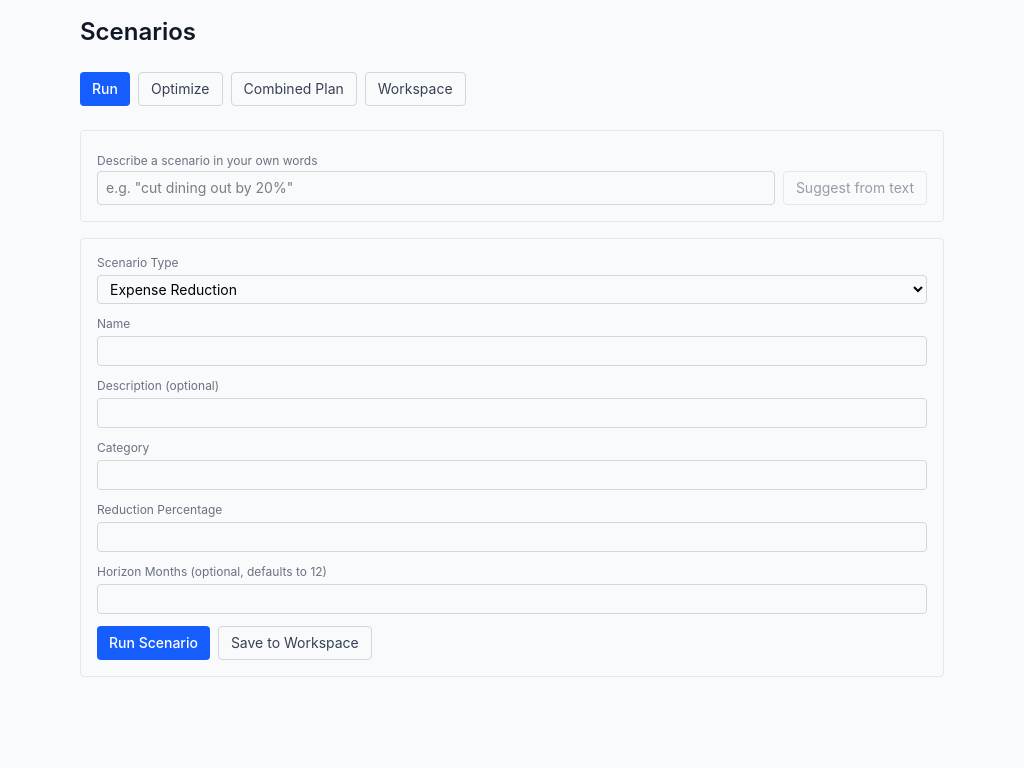
ScenariosPage › shows an inline error when parsing fails, without touching the form
Step 1. Type "cut dining out by 20%" into the field labelled "Describe a scenario in your own words" → (436, 188), box left=97, top=171, right=775, bottom=205
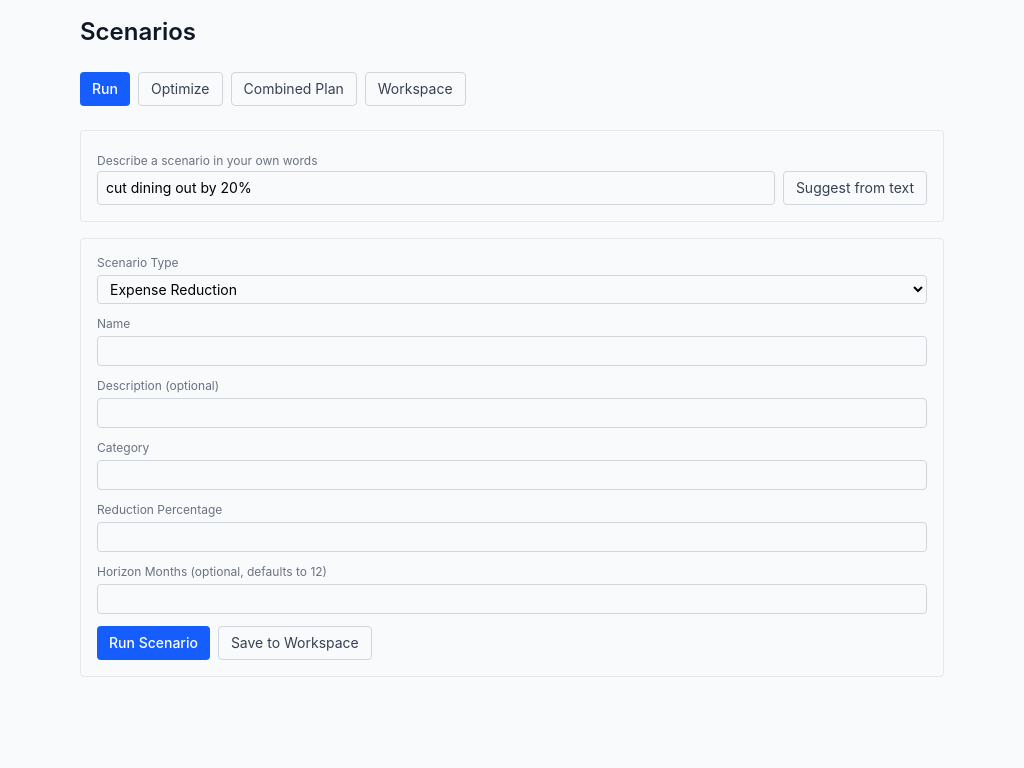
Step 2. Click the button "Suggest from text" → (855, 188), box left=783, top=171, right=927, bottom=205
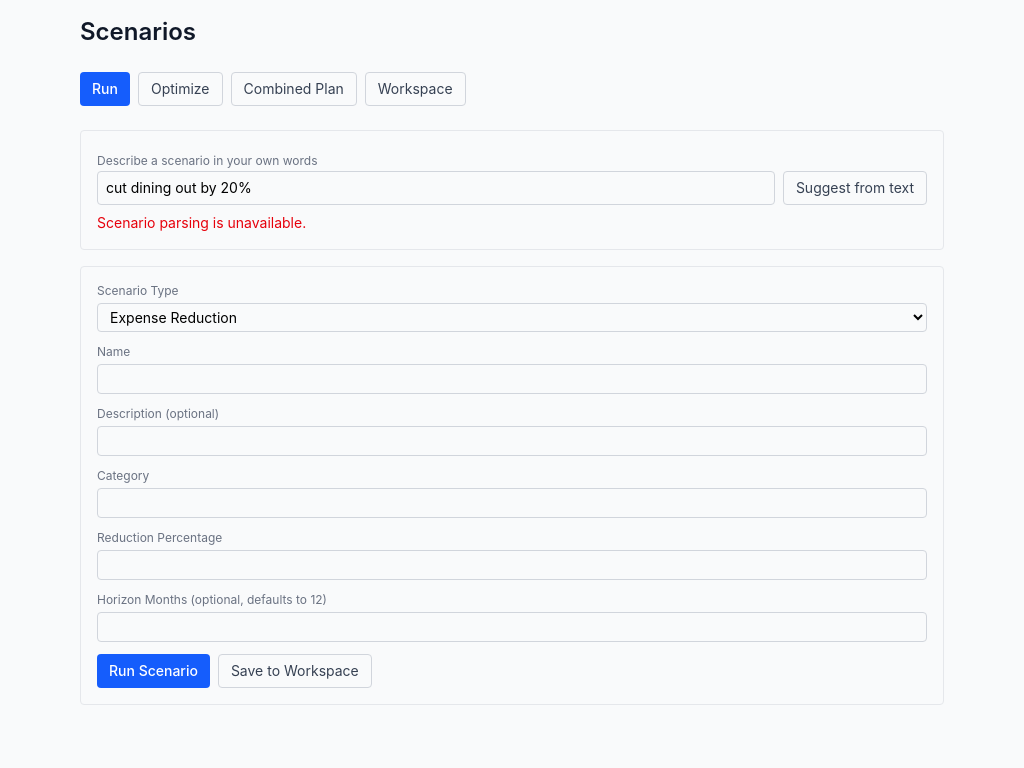
Expected: the field labelled "Name" is empty, left=97, top=364, right=927, bottom=394
Expected: the text "Scenario parsing is unavailable." is shown, left=97, top=214, right=306, bottom=231
